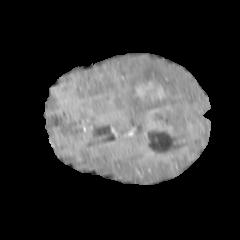glioma: (111, 58, 198, 131)
